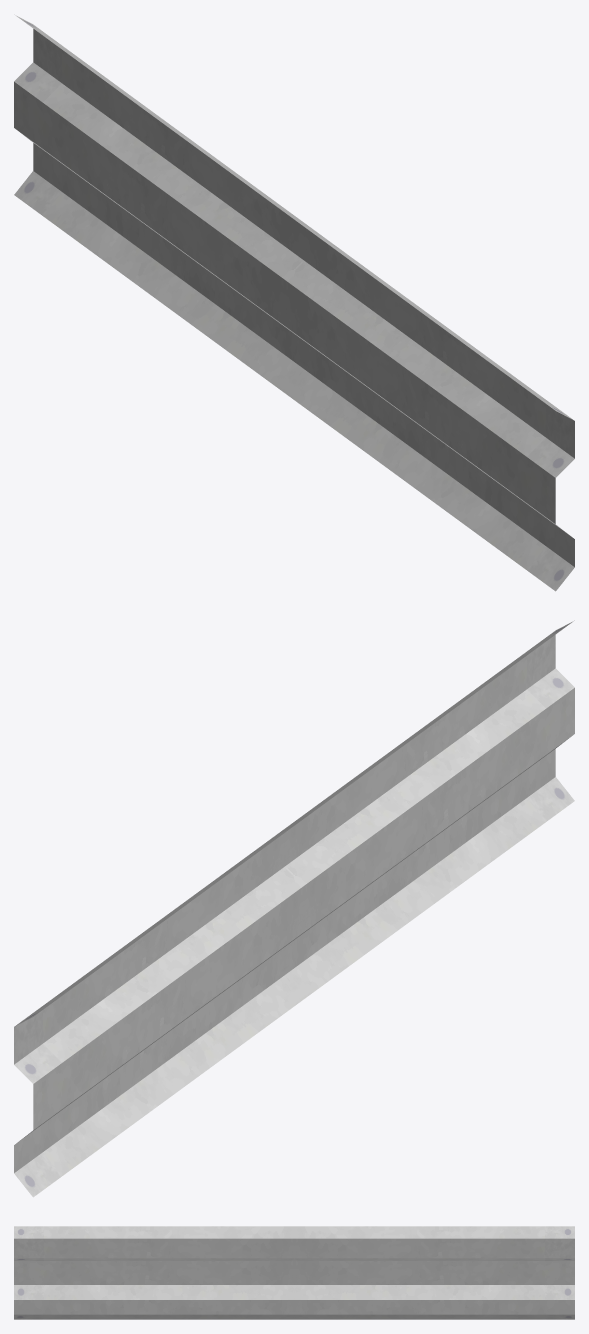
The model's file is HighwaySimpleWall1.fbx.
3 renders of one model, top to bottom at view 1: azimuth 30°, elevation 25°; view 2: azimuth 150°, elevation 25°; view 3: azimuth 270°, elevation 25°, orthographic. The views are drawn at different scales.
Parts seen in each view (by area): view 1: HighwayWall_Corner.002; view 2: HighwayWall_Corner.002; view 3: HighwayWall_Corner.002.
Boxes of the visible parts, x1,y1,x2,y2 form: HighwayWall_Corner.002: [14, 14, 574, 591]; HighwayWall_Corner.002: [14, 620, 574, 1197]; HighwayWall_Corner.002: [14, 1226, 574, 1319].
Bounding box in the file's own units: 39.88 × 359 × 1950.
